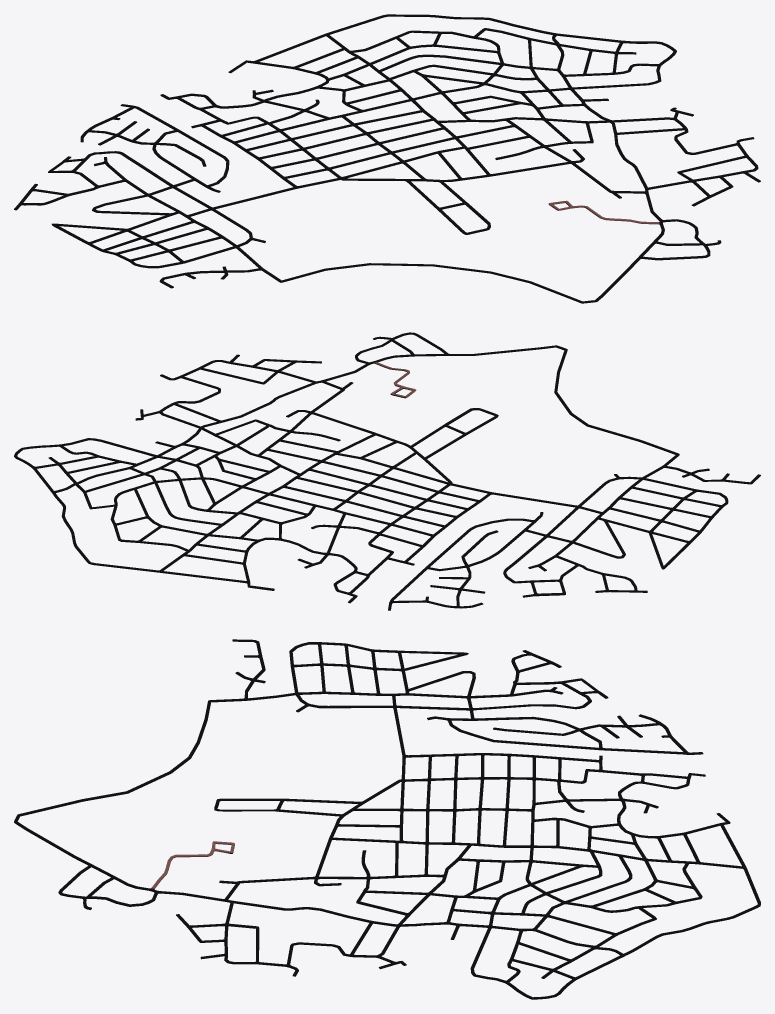
Rendered from streets19.glb.
3 renders of one model, top to bottom at view 1: azimuth 30°, elevation 25°; view 2: azimuth 150°, elevation 25°; view 3: azimuth 270°, elevation 25°, orthographic. The views are drawn at different scales.
Parts seen in each view (by area): view 1: Vert.003; view 2: Vert.003; view 3: Vert.003.
Boxes of the visible parts, box(x1,y1,x2,y2) form: Vert.003: box(14, 14, 760, 303); Vert.003: box(14, 332, 760, 610); Vert.003: box(14, 639, 760, 999).
Size of the model in its own units: 3.86 by 0.1455 by 3.56.
